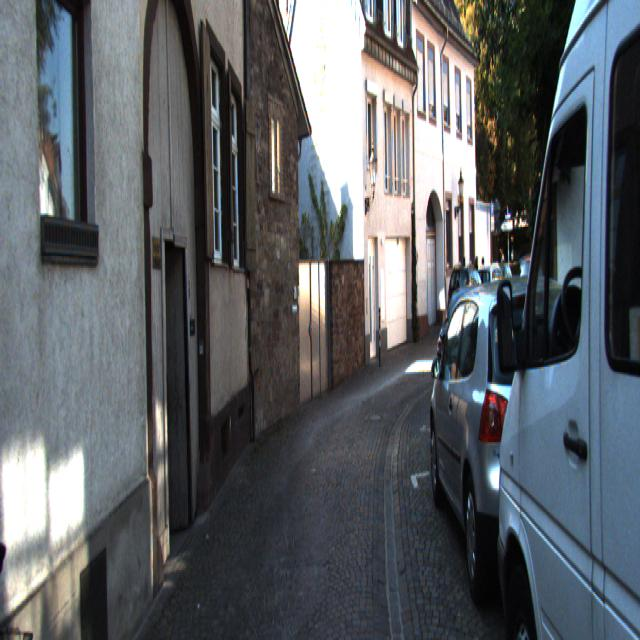Car: (424, 263, 614, 638), (490, 0, 570, 639), (438, 285, 504, 425), (512, 255, 555, 351), (447, 263, 488, 331), (472, 260, 512, 319)
